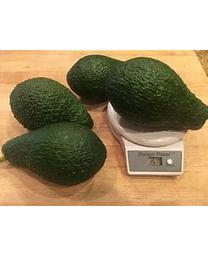avocado: (104, 56, 207, 131), (2, 124, 108, 184), (9, 77, 95, 140), (66, 55, 141, 103)
